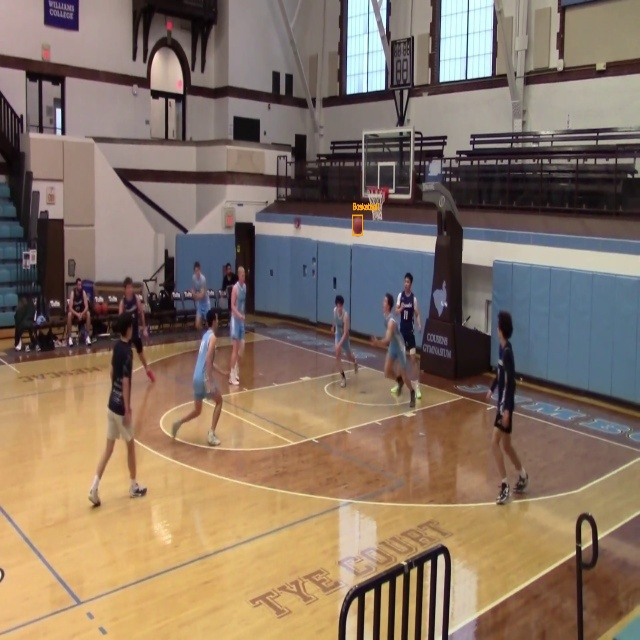Basketball: (352, 216, 363, 235)
